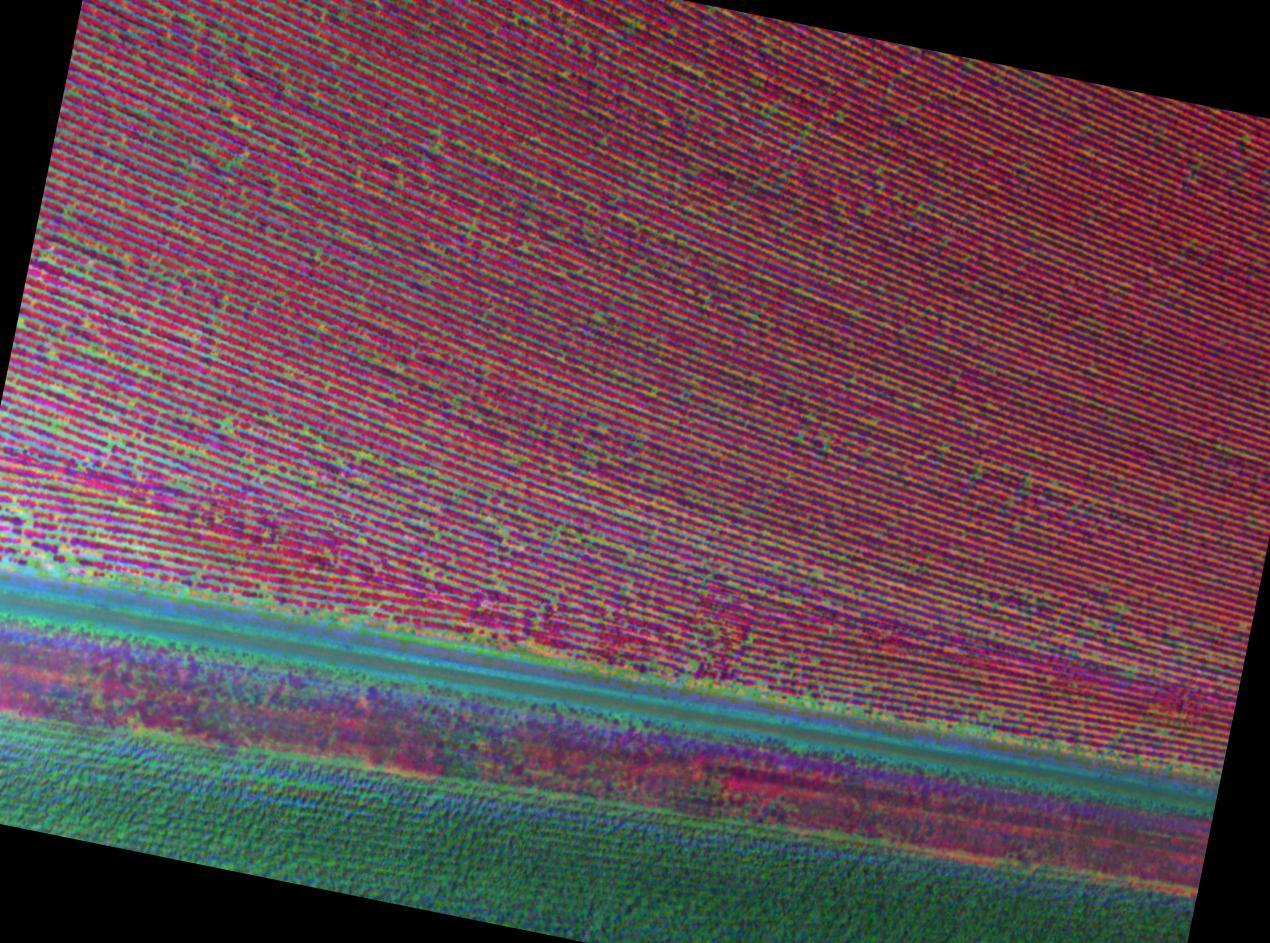dc: (226, 421, 231, 426), (1131, 667, 1136, 672)
